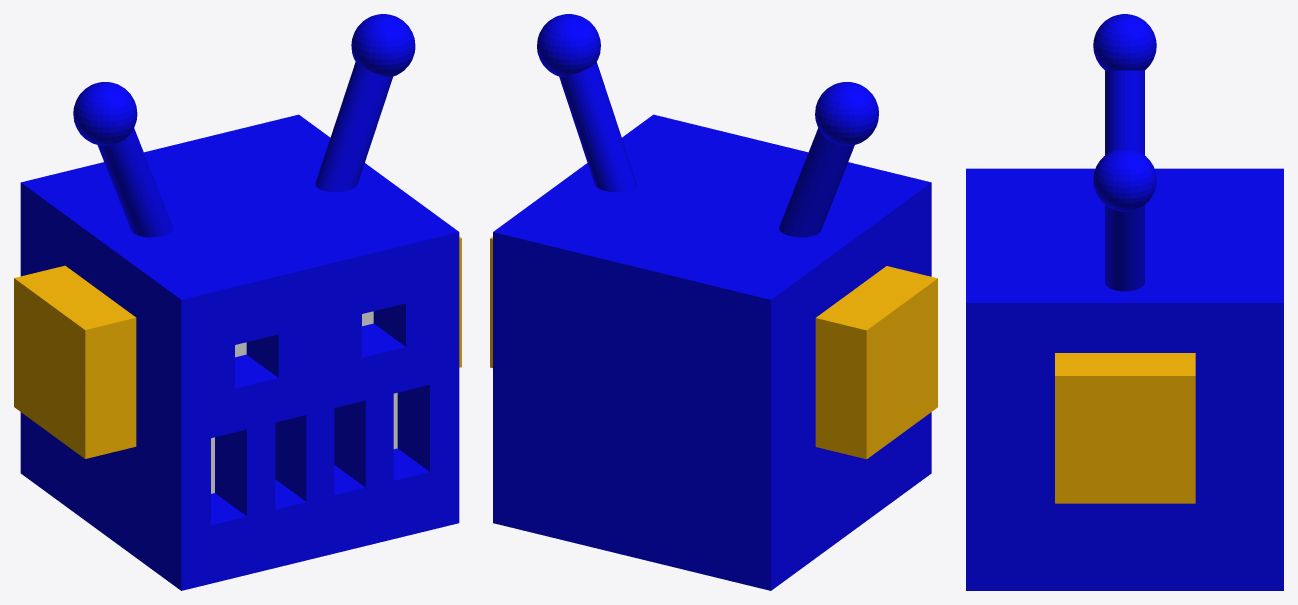
Rendered from robohead_blue.glb.
The picture shows the model from 3 angles, left to right: view 1: azimuth 30°, elevation 25°; view 2: azimuth 150°, elevation 25°; view 3: azimuth 270°, elevation 25°; orthographic projection.
Parts seen in each view (by area): view 1: head; view 2: head; view 3: head.
Part boxes in pixels (bbox=[...]): head: bbox=[14, 14, 461, 590]; head: bbox=[490, 14, 937, 590]; head: bbox=[966, 14, 1283, 590].
Size of the model in its own units: 2.71 by 3.07 by 2.
